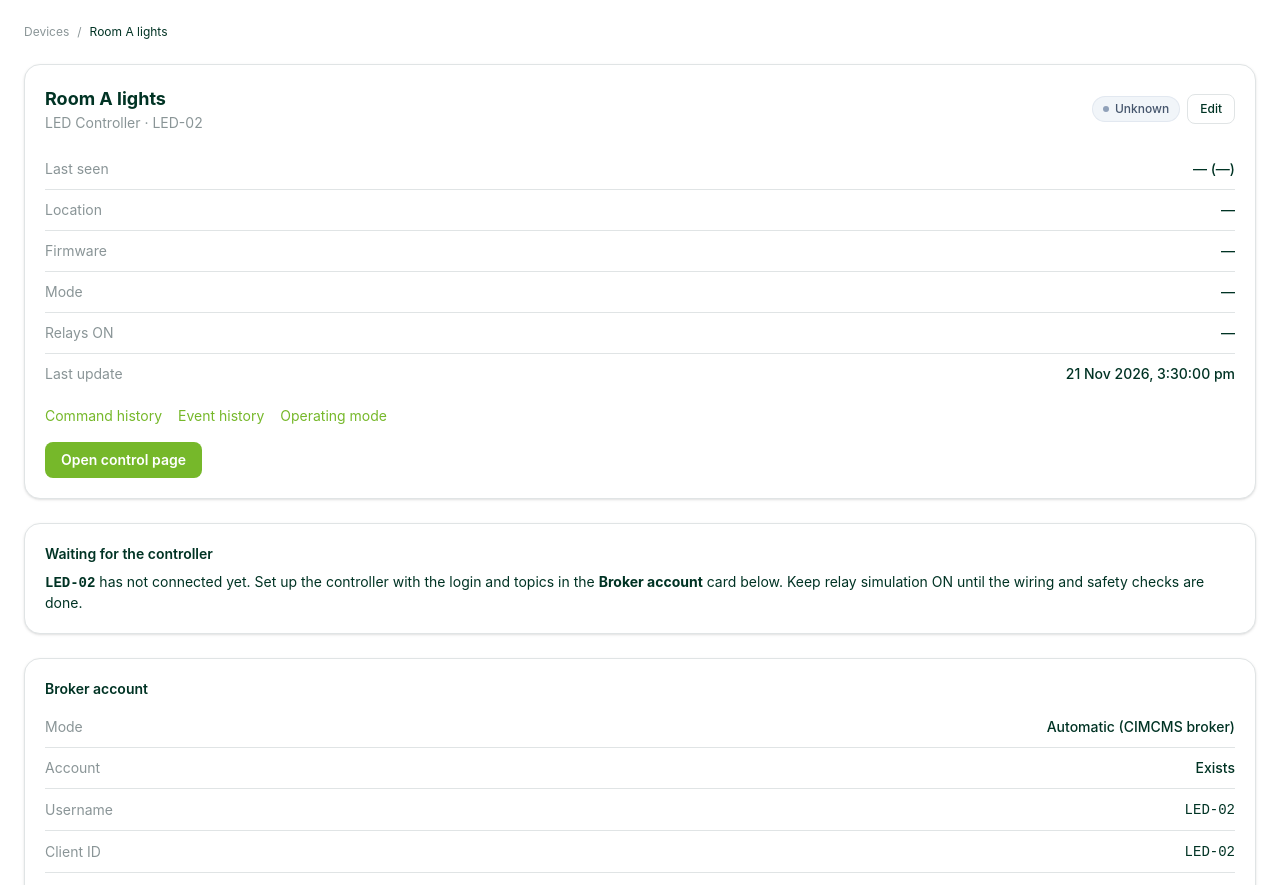
Test case: Edit device › changes name and location with DEVICE_MANAGE
Click the button "Edit".
click(1211, 109)  # box [1187,94,1235,124]
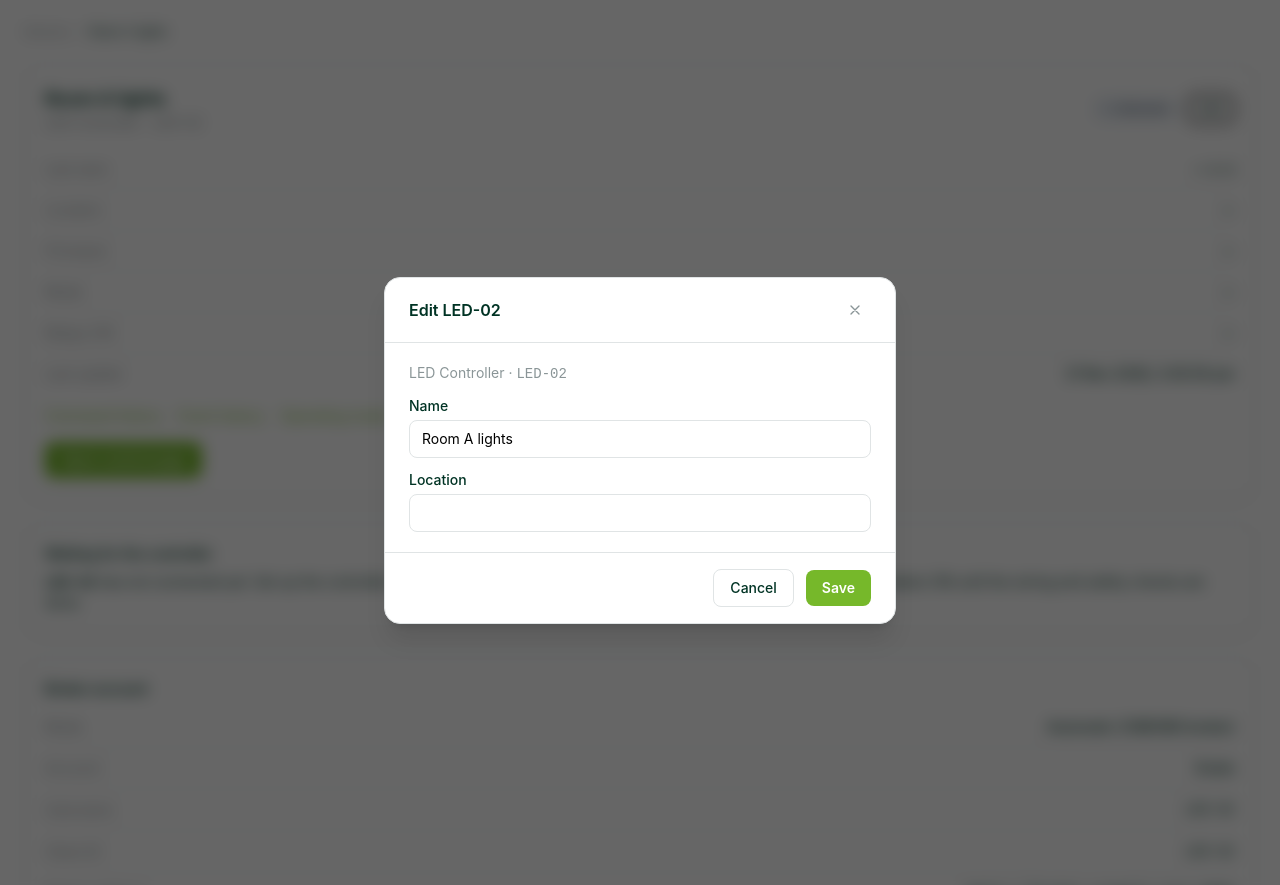
Replace the text in the field labelled "Name" with "Room B lights" at (640,438), box [409,420,871,458]
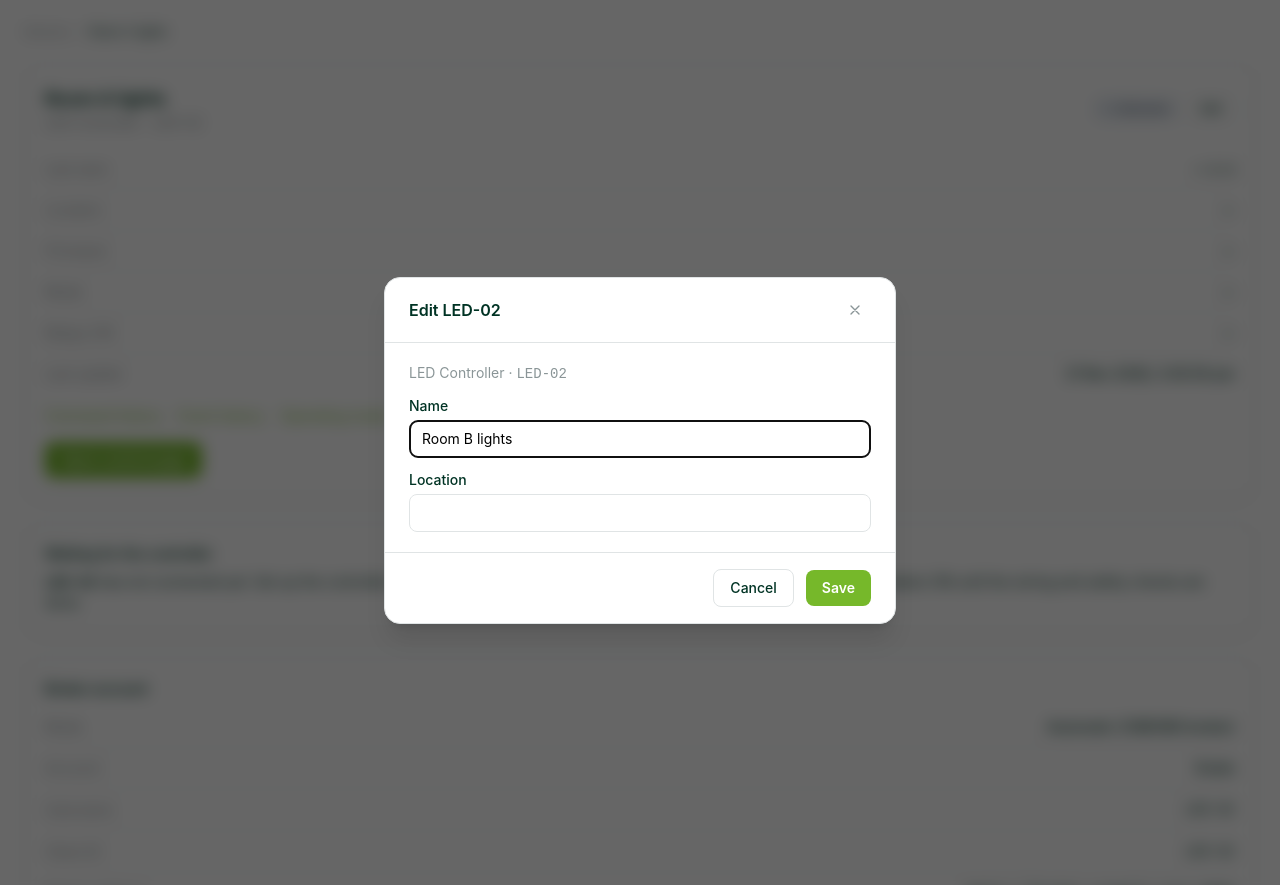
Type "Grow room B" into the field labelled "Location".
click(640, 512); type("Grow room B")  # box [409,494,871,532]
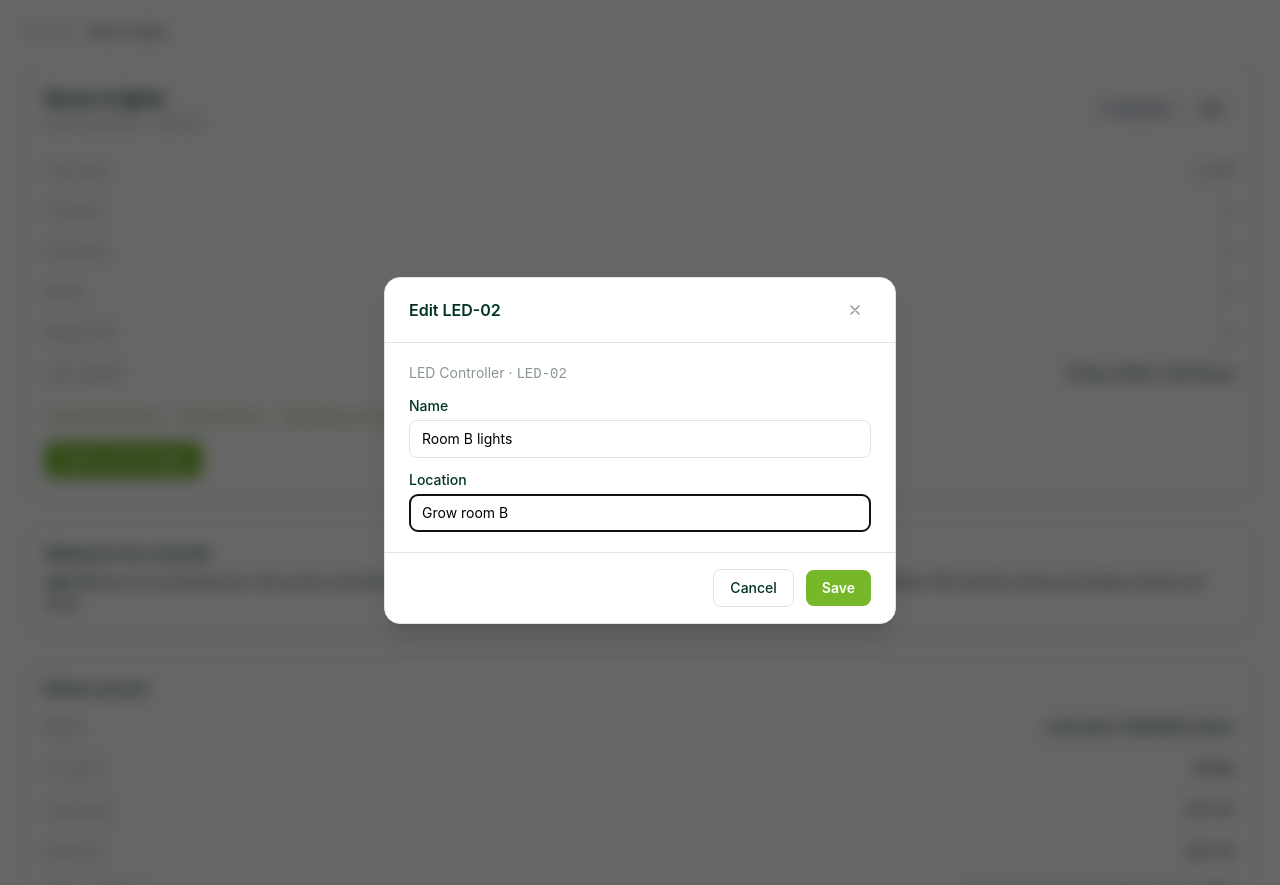
Click the button "Save".
click(838, 588)  # box [806,570,871,606]
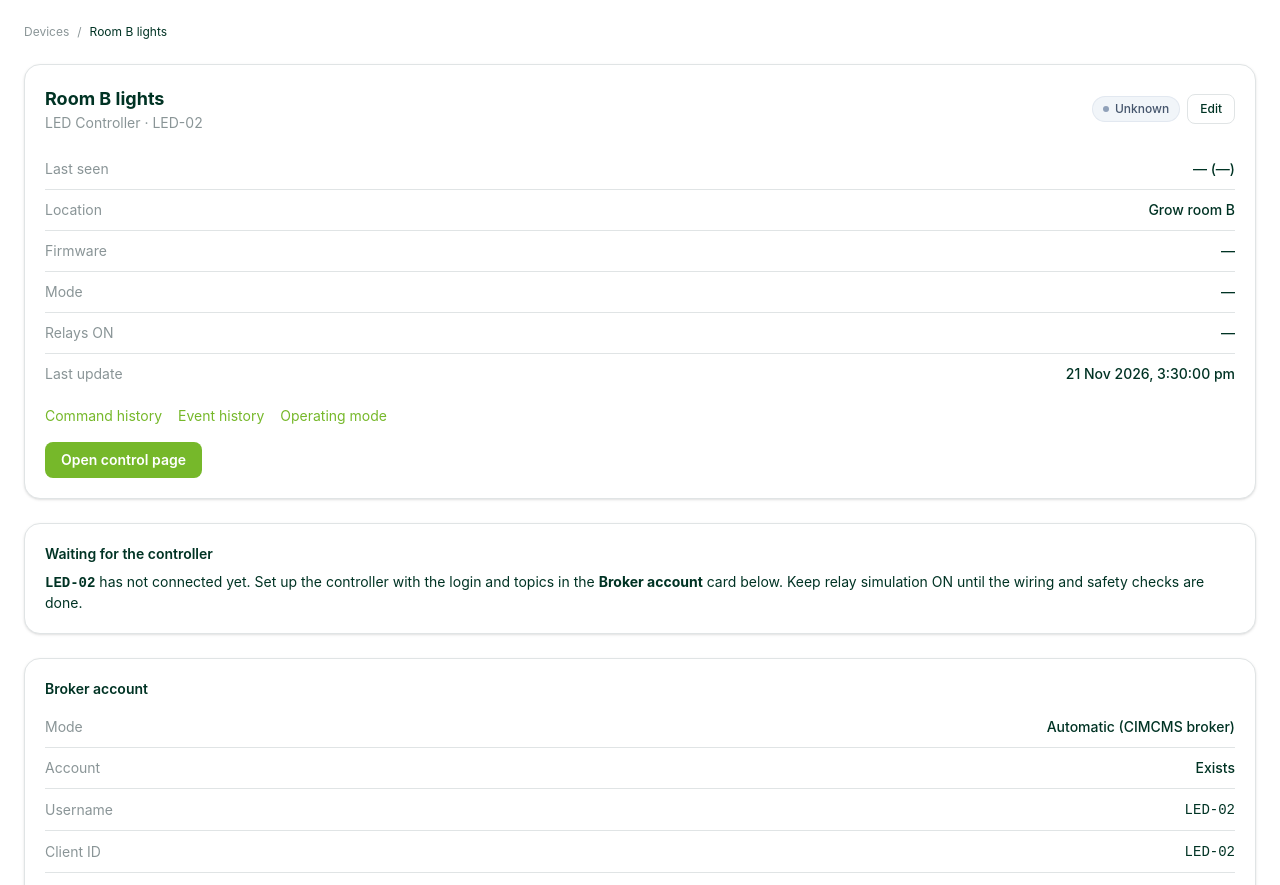
Now the heading "Room B lights" is shown, box [45,88,164,109]
